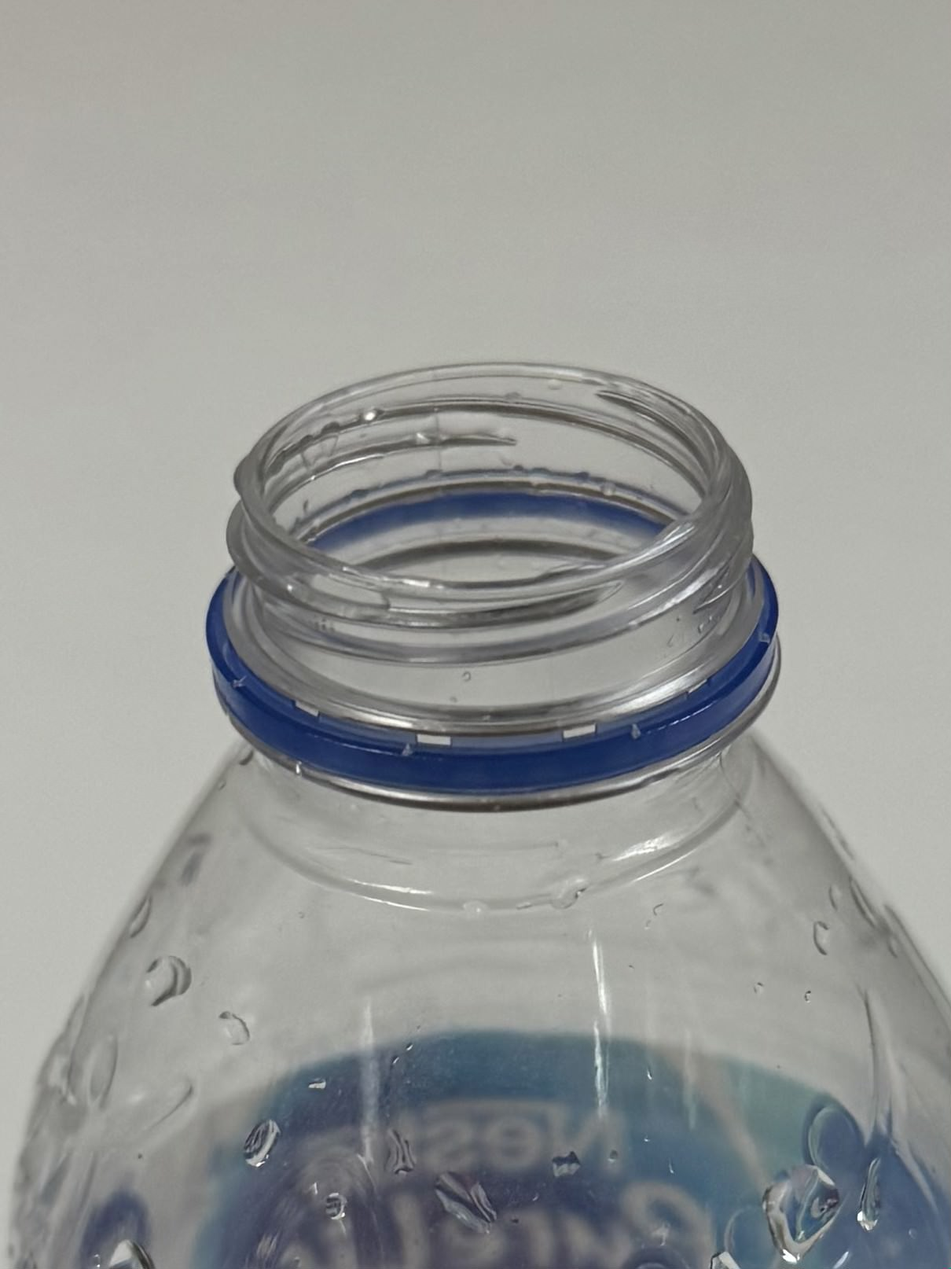no_cap: (198, 354, 794, 819)
